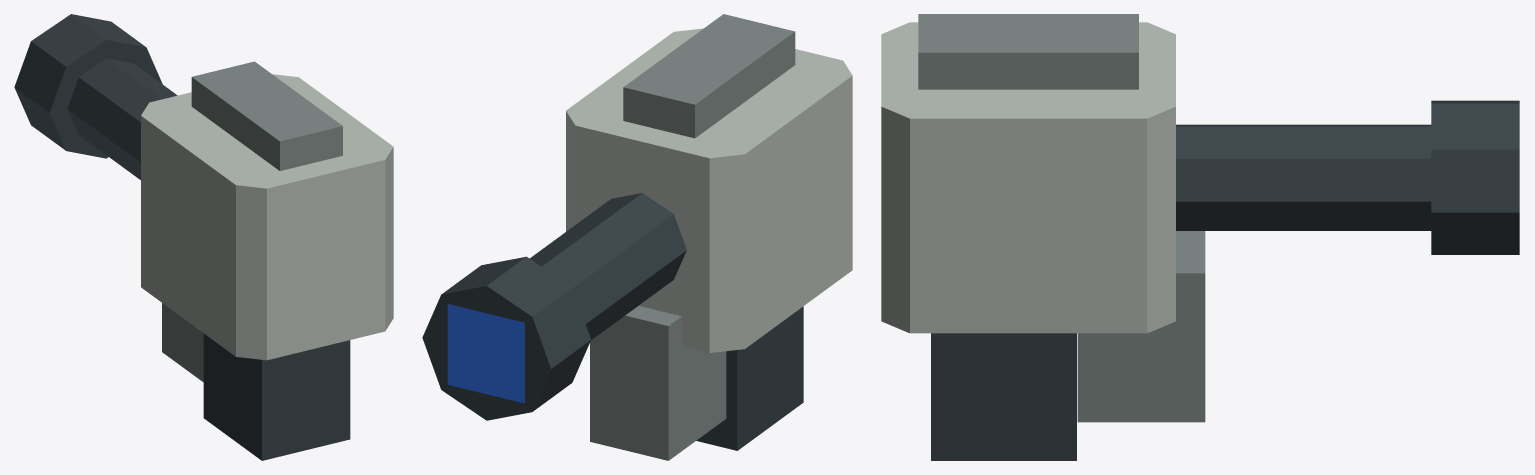
3 views of the same model, side by side, from view 1: azimuth 30°, elevation 25°; view 2: azimuth 150°, elevation 25°; view 3: azimuth 270°, elevation 25° (orthographic). The views are drawn at different scales.
Visible parts, largest first — view 1: mount; view 2: mount; view 3: mount.
Part boxes in pixels (x1,y1,x2,y2): mount: [14, 14, 393, 460]; mount: [422, 14, 852, 460]; mount: [881, 14, 1519, 460].
Size of the model in its own units: 6.5 by 12.61 by 18.23.
